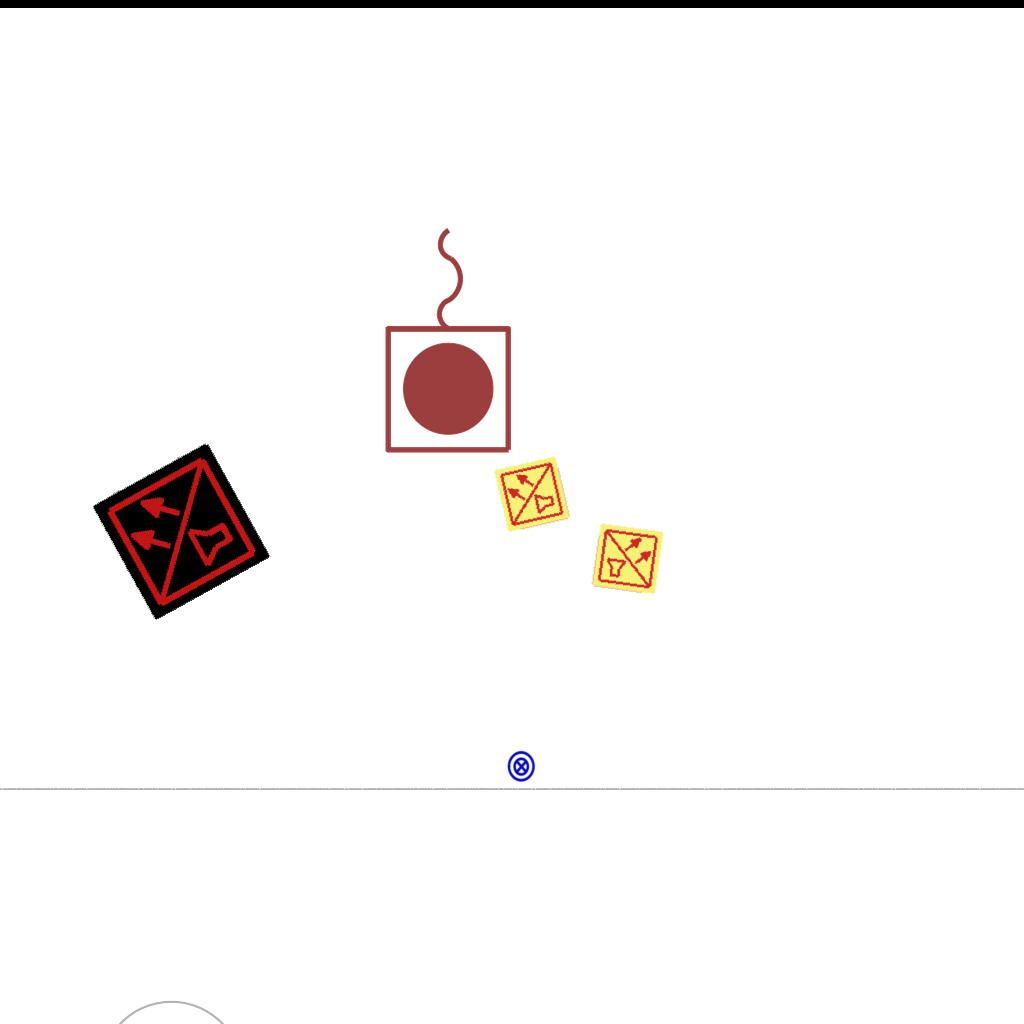OKW_Multisensormelder_(Kombination_optischer_Rauch-Kahlenmonoxid_Waerme-Melder): (91, 441, 271, 621), (492, 454, 572, 534), (590, 521, 666, 597)
Taster_beleuchtet: (505, 750, 538, 783)
Zugtaster: (378, 217, 522, 461)
